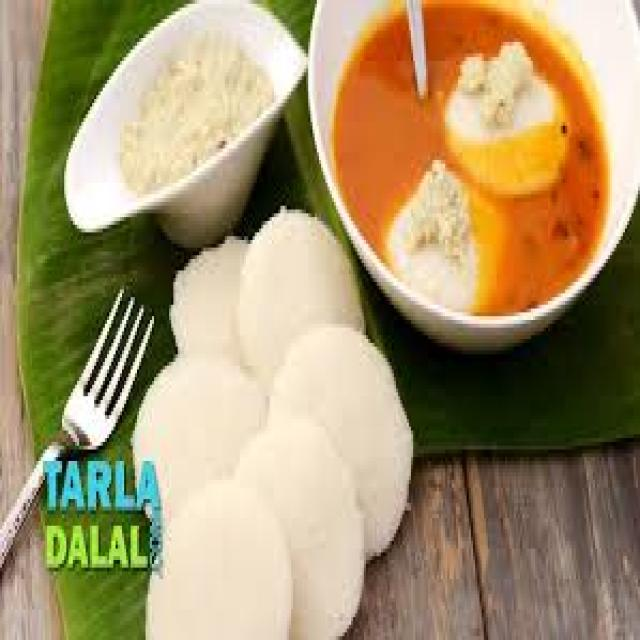IDLI: (270, 324, 407, 552), (238, 411, 364, 636), (150, 480, 289, 636), (133, 358, 265, 518), (240, 210, 362, 377), (169, 240, 244, 358)
